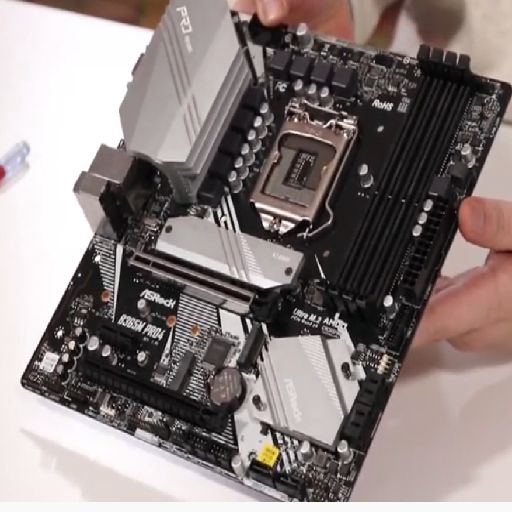CPU: (242, 96, 359, 244)
GPU: (75, 349, 235, 433), (121, 247, 268, 329)
MOTHERBOARD: (18, 3, 507, 512)
RAM: (319, 44, 475, 324), (159, 345, 203, 398), (228, 323, 273, 365)
